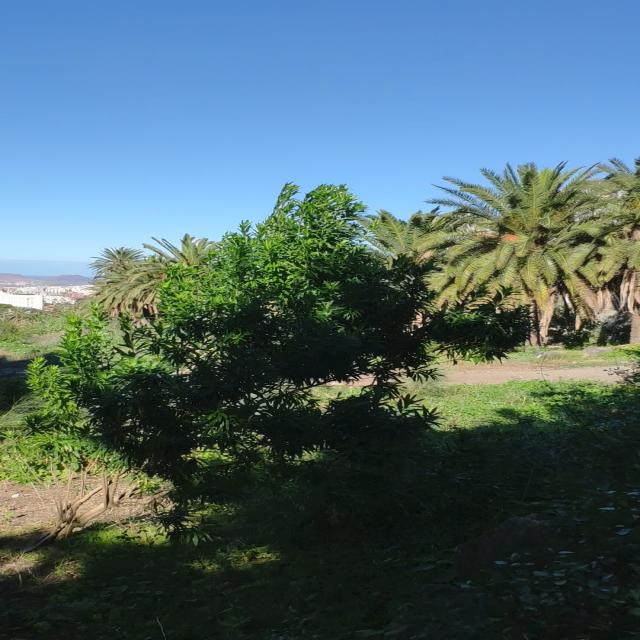Palm-Trees: (435, 168, 623, 342)
